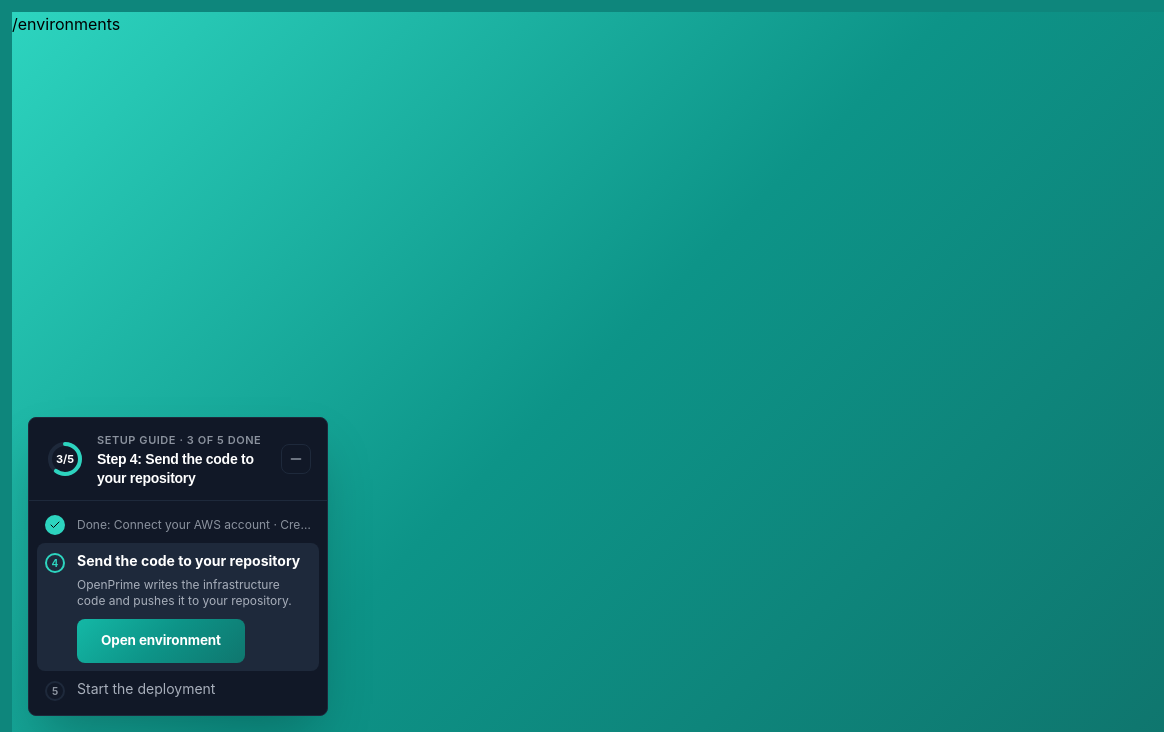
GuideDock › leads to the environment to push, and there points at Push to Git
The image size is (1164, 732).
Click the button "Open environment": (161, 641) [77, 619, 245, 663]
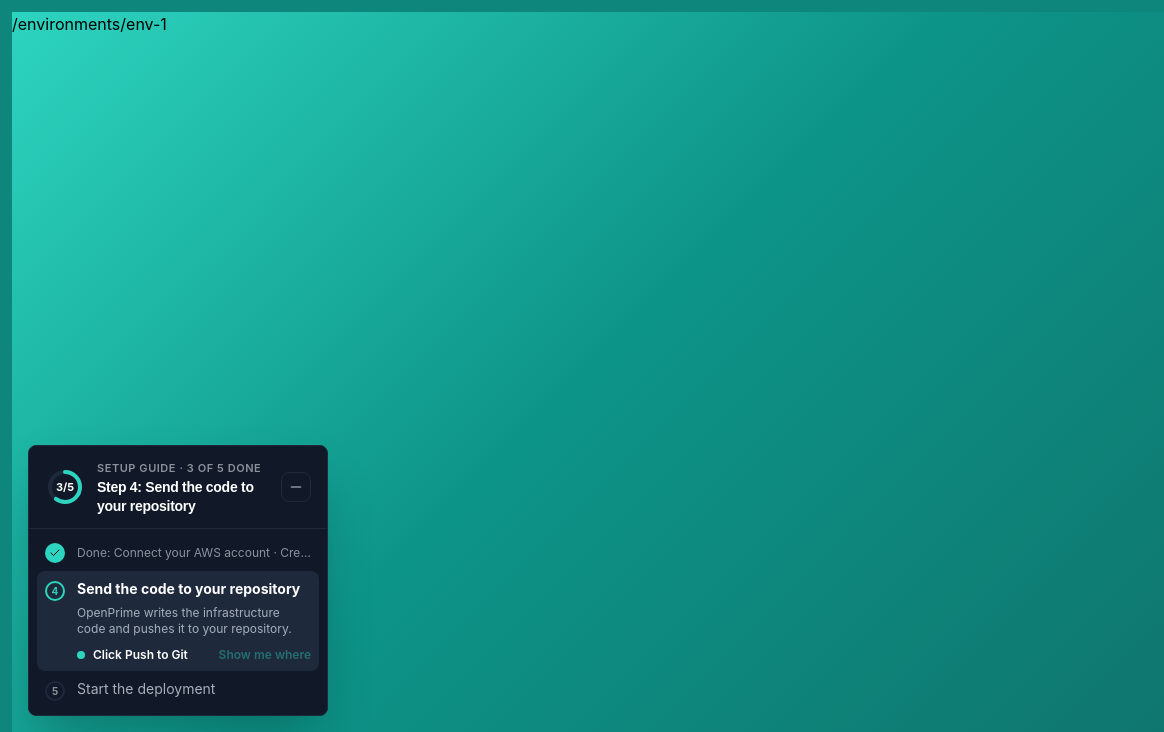
Result: the text with test id "location" reads "/environments/env-1" at [12, 14, 167, 34]
Result: the list item "Click Push to Git Show me where" is shown at [77, 647, 311, 663]
